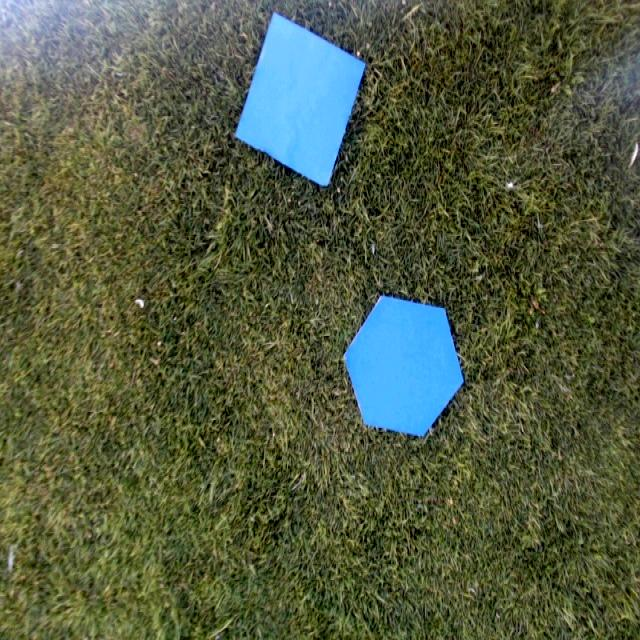blue_hexagon: (341, 294, 464, 438)
blue_square: (235, 12, 368, 188)
